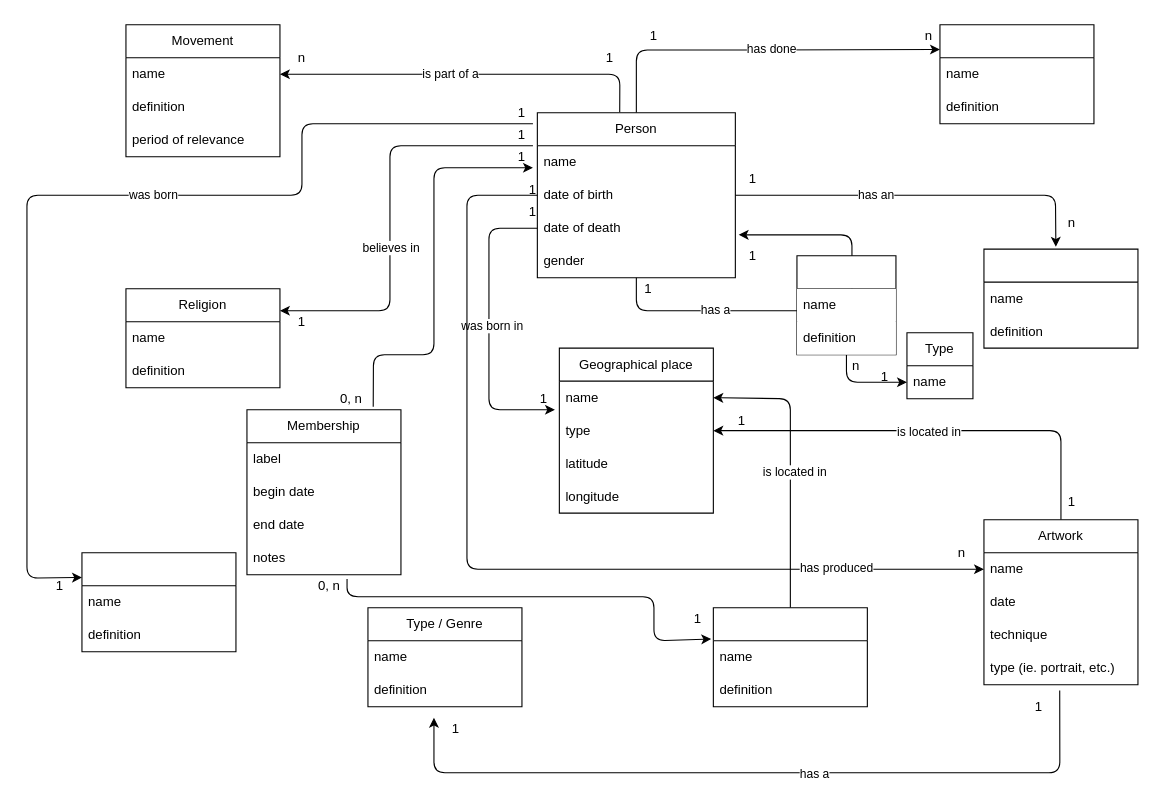
Some shapes in this 1157 by 801 pixel diagram are drawn without their labels. Each missing label, with the box of its shape:
Occupation: (983, 248, 1138, 348)
Organisation: (712, 607, 867, 707)
Relationship: (796, 255, 896, 355)
Social status: (81, 552, 236, 652)
Training: (939, 24, 1094, 124)
